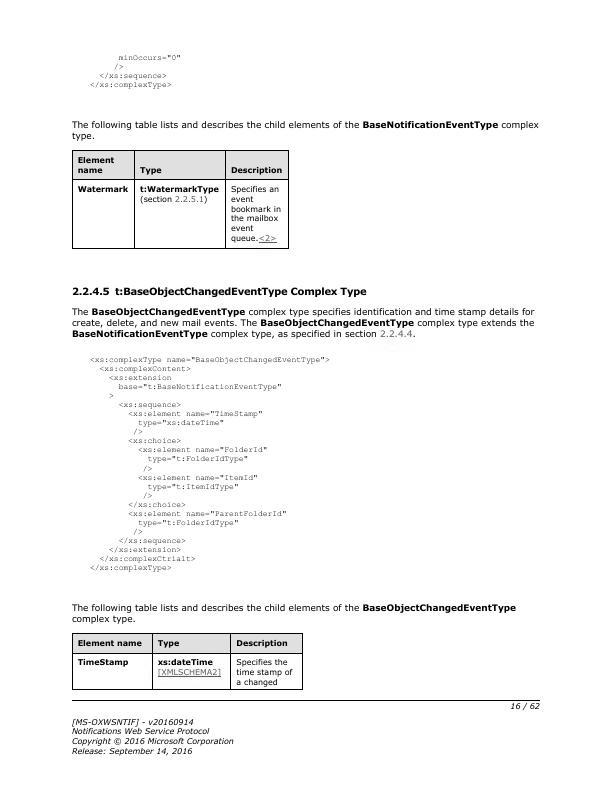table: (71, 149, 292, 252), (68, 631, 304, 691)
text: (86, 355, 332, 574), (70, 303, 538, 340), (70, 118, 540, 144), (68, 601, 522, 624), (68, 717, 240, 758), (86, 52, 187, 98), (68, 286, 370, 300)
